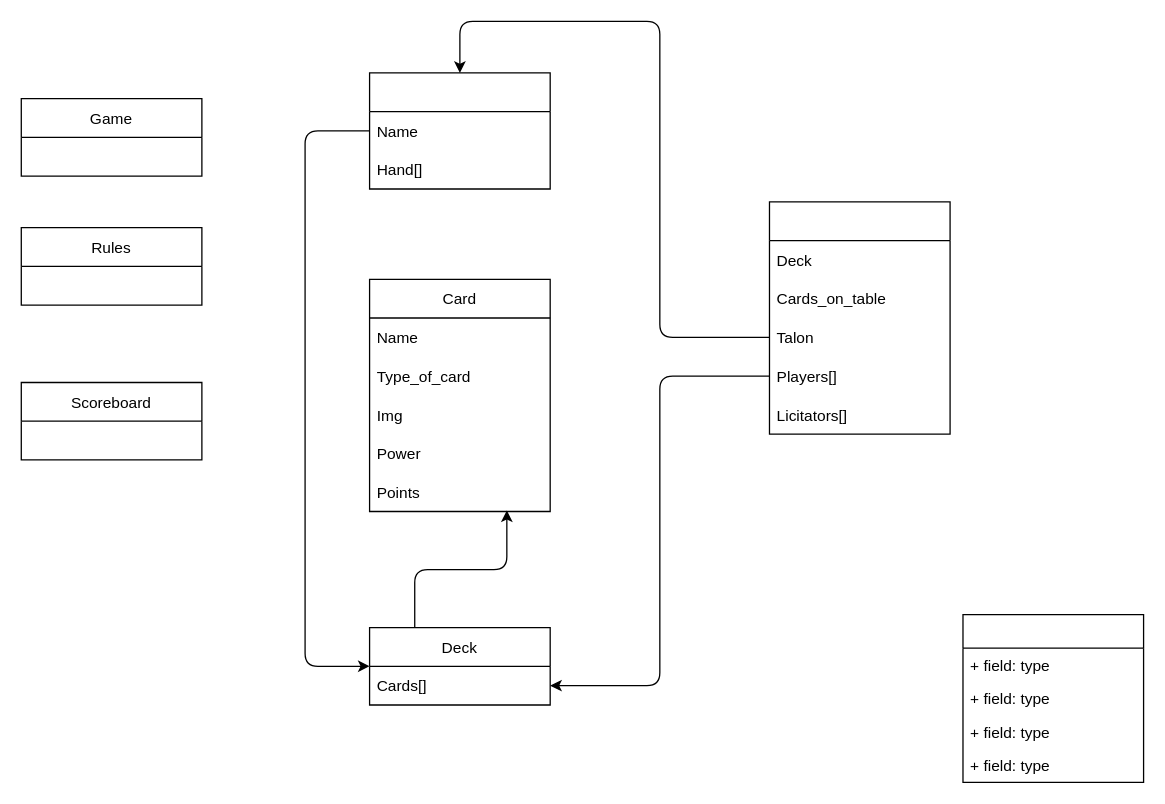
Some shapes in this 1165 by 804 pixel diagram are drawn without their labels. The box of each missing label's shape, as (x1, y1, x2, y2) in pixels:
Board: (768, 201, 950, 434)
Classname: (962, 613, 1144, 782)
Player: (368, 72, 550, 189)
